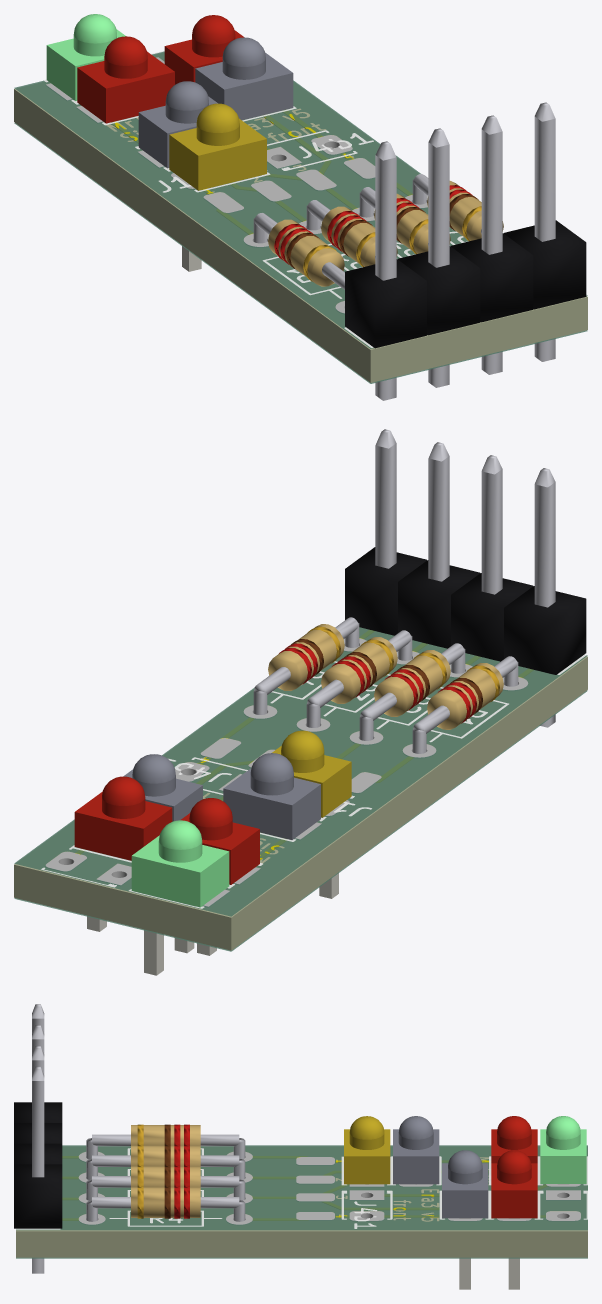
Rendered from MrJ-DB-Era3-breadboard-exit-Hp1.glb.
3 views of the same model, one above another, from view 1: azimuth 30°, elevation 25°; view 2: azimuth 150°, elevation 25°; view 3: azimuth 270°, elevation 25° (orthographic). The views are drawn at different scales.
Parts seen in each view (by area): view 1: =>[0:1:1:19], =>[0:1:1:3] (×4), =>[0:1:1:17], =>[0:1:1:5] (×4), =>[0:1:1:13] (×2), =>[0:1:1:7] (×2), =>[0:1:1:11], =>[0:1:1:15], =>[0:1:1:9], =>[0:1:1:16], =>[0:1:1:14], =>[0:1:1:18]; view 2: =>[0:1:1:19], =>[0:1:1:3] (×4), =>[0:1:1:17], =>[0:1:1:5] (×4), =>[0:1:1:7] (×2), =>[0:1:1:13] (×2), =>[0:1:1:9], =>[0:1:1:15], =>[0:1:1:11], =>[0:1:1:16], =>[0:1:1:14], =>[0:1:1:18]; view 3: =>[0:1:1:19], =>[0:1:1:17], =>[0:1:1:5] (×4), =>[0:1:1:3] (×4), =>[0:1:1:13] (×2), =>[0:1:1:7] (×2), =>[0:1:1:15], =>[0:1:1:11], =>[0:1:1:9], =>[0:1:1:16], =>[0:1:1:18], =>[0:1:1:14].
Boxes of the visible parts, x1,y1,x2,y2 form: =>[0:1:1:19]: (14, 53, 587, 382); =>[0:1:1:3] (×4): (345, 102, 586, 400); =>[0:1:1:17]: (14, 51, 587, 348); =>[0:1:1:5] (×4): (253, 174, 503, 289); =>[0:1:1:13] (×2): (138, 37, 293, 168); =>[0:1:1:7] (×2): (77, 15, 243, 123); =>[0:1:1:11]: (169, 103, 266, 271); =>[0:1:1:15]: (46, 57, 427, 313); =>[0:1:1:9]: (46, 14, 125, 100); =>[0:1:1:16]: (43, 50, 586, 347); =>[0:1:1:14]: (112, 111, 412, 234); =>[0:1:1:18]: (14, 123, 587, 383); =>[0:1:1:19]: (14, 628, 587, 950); =>[0:1:1:3] (×4): (345, 429, 586, 727); =>[0:1:1:17]: (14, 627, 587, 916); =>[0:1:1:5] (×4): (253, 617, 518, 753); =>[0:1:1:7] (×2): (74, 776, 259, 953); =>[0:1:1:13] (×2): (123, 753, 320, 839); =>[0:1:1:9]: (131, 820, 229, 975); =>[0:1:1:15]: (45, 638, 528, 906); =>[0:1:1:11]: (272, 730, 351, 898); =>[0:1:1:16]: (41, 654, 586, 908); =>[0:1:1:14]: (75, 630, 532, 860); =>[0:1:1:18]: (14, 690, 587, 951); =>[0:1:1:19]: (16, 1147, 587, 1257); =>[0:1:1:17]: (16, 1145, 587, 1230); =>[0:1:1:5] (×4): (86, 1124, 245, 1221); =>[0:1:1:3] (×4): (14, 1004, 62, 1273); =>[0:1:1:13] (×2): (393, 1116, 488, 1289); =>[0:1:1:7] (×2): (491, 1116, 537, 1289); =>[0:1:1:15]: (78, 1152, 580, 1224); =>[0:1:1:11]: (344, 1116, 390, 1184); =>[0:1:1:9]: (540, 1116, 586, 1184); =>[0:1:1:16]: (16, 1148, 587, 1229); =>[0:1:1:18]: (16, 1257, 587, 1258); =>[0:1:1:14]: (63, 1156, 546, 1220).
Bounding box in the file's own units: 0.0104 × 0.0127 × 0.0297.
